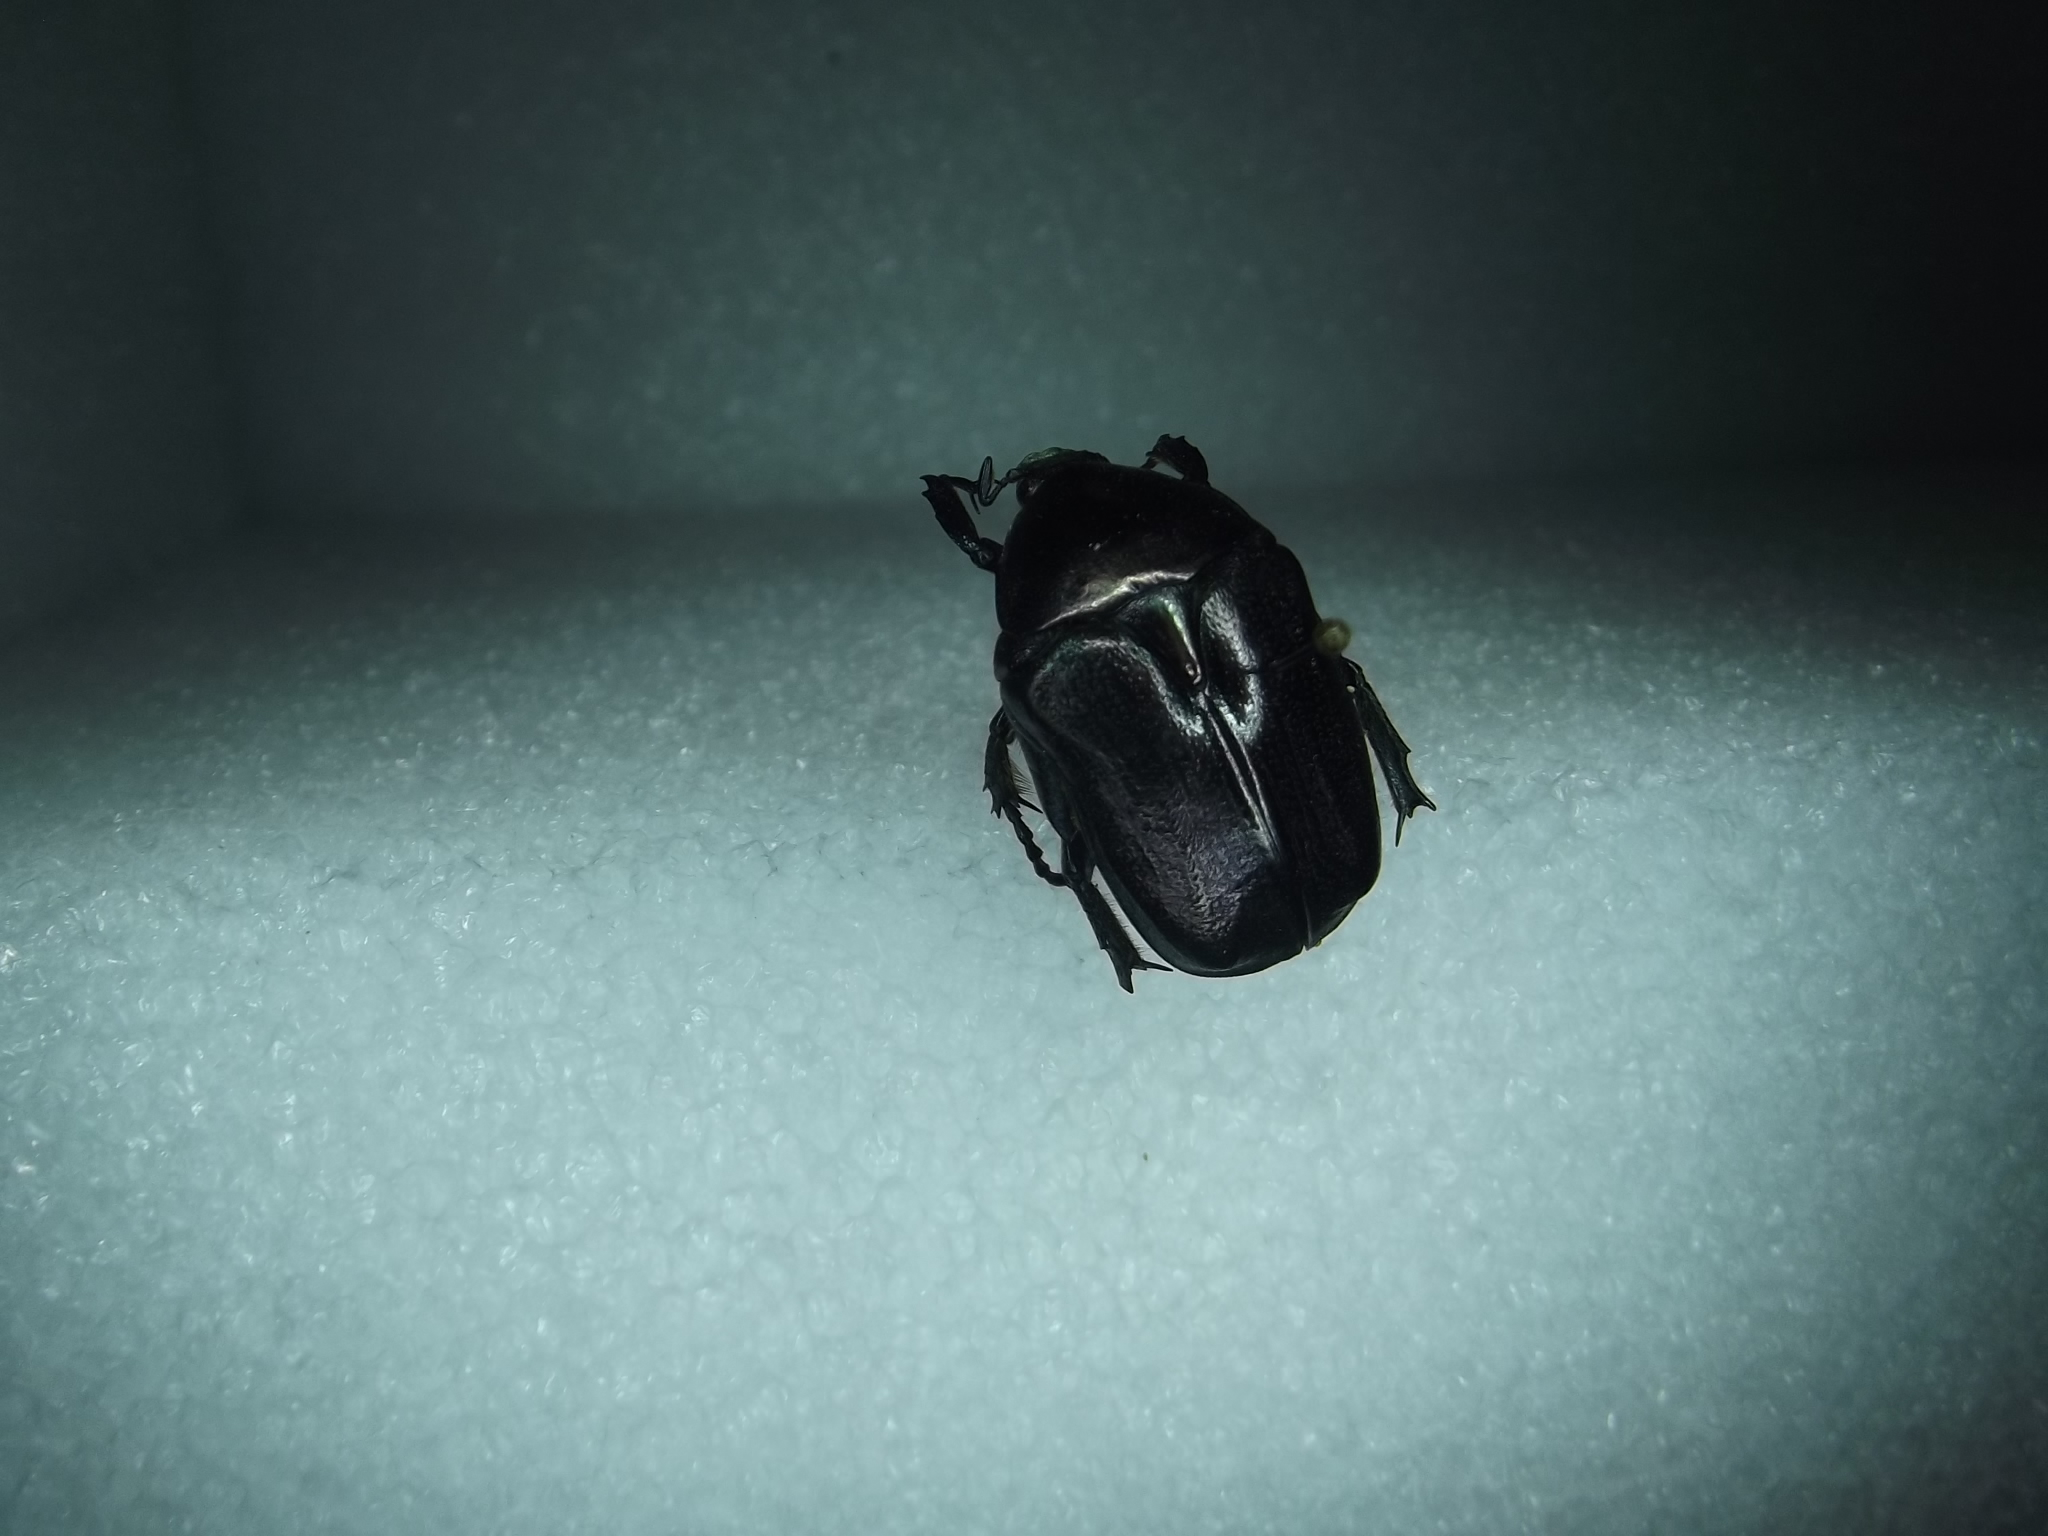Protaetia_besucheti: (914, 387, 1447, 1015)
